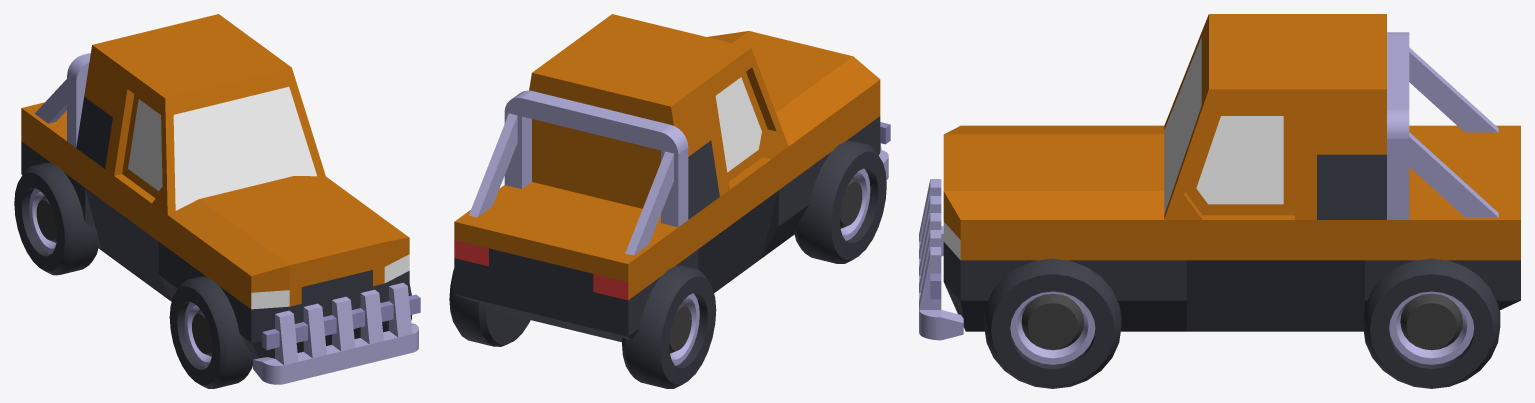
File: orange_car1.fbx
3 renders of one model, left to right at view 1: azimuth 30°, elevation 25°; view 2: azimuth 150°, elevation 25°; view 3: azimuth 270°, elevation 25°, orthographic. The views are drawn at different scales.
Parts seen in each view (by area): view 1: mergedBlocks; view 2: mergedBlocks; view 3: mergedBlocks.
Boxes of the visible parts, x1,y1,x2,y2 form: mergedBlocks: (14,14,420,388); mergedBlocks: (449,14,890,388); mergedBlocks: (919,14,1520,388).
Bounding box in the file's own units: 12.16 × 14.08 × 27.
